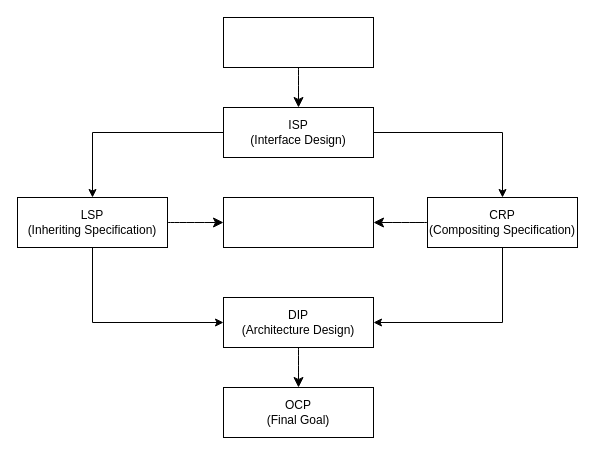
The diagram is 595 pixels wide and 455 high, and some of its shapes have lost their labels. The centre of each missing label's shape, as x and y in pixels:
"LoD (Interaction Constraint)" belongs at point (298, 222).
"SRP (Basic Structure)" belongs at point (298, 42).
